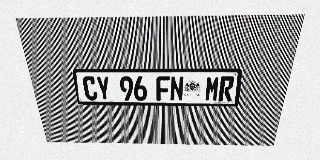6: (133, 76, 147, 101)
9: (119, 76, 134, 101)
C: (82, 76, 98, 100)
F: (156, 76, 170, 101)
M: (205, 76, 220, 101)
N: (170, 76, 184, 101)
R: (218, 76, 235, 101)
Y: (95, 76, 111, 100)
